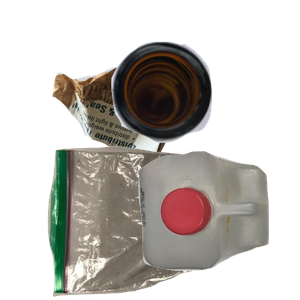cardboard: (50, 62, 228, 226)
glass: (109, 39, 300, 175)
plastic: (136, 149, 300, 300)
trash: (45, 144, 235, 300)
